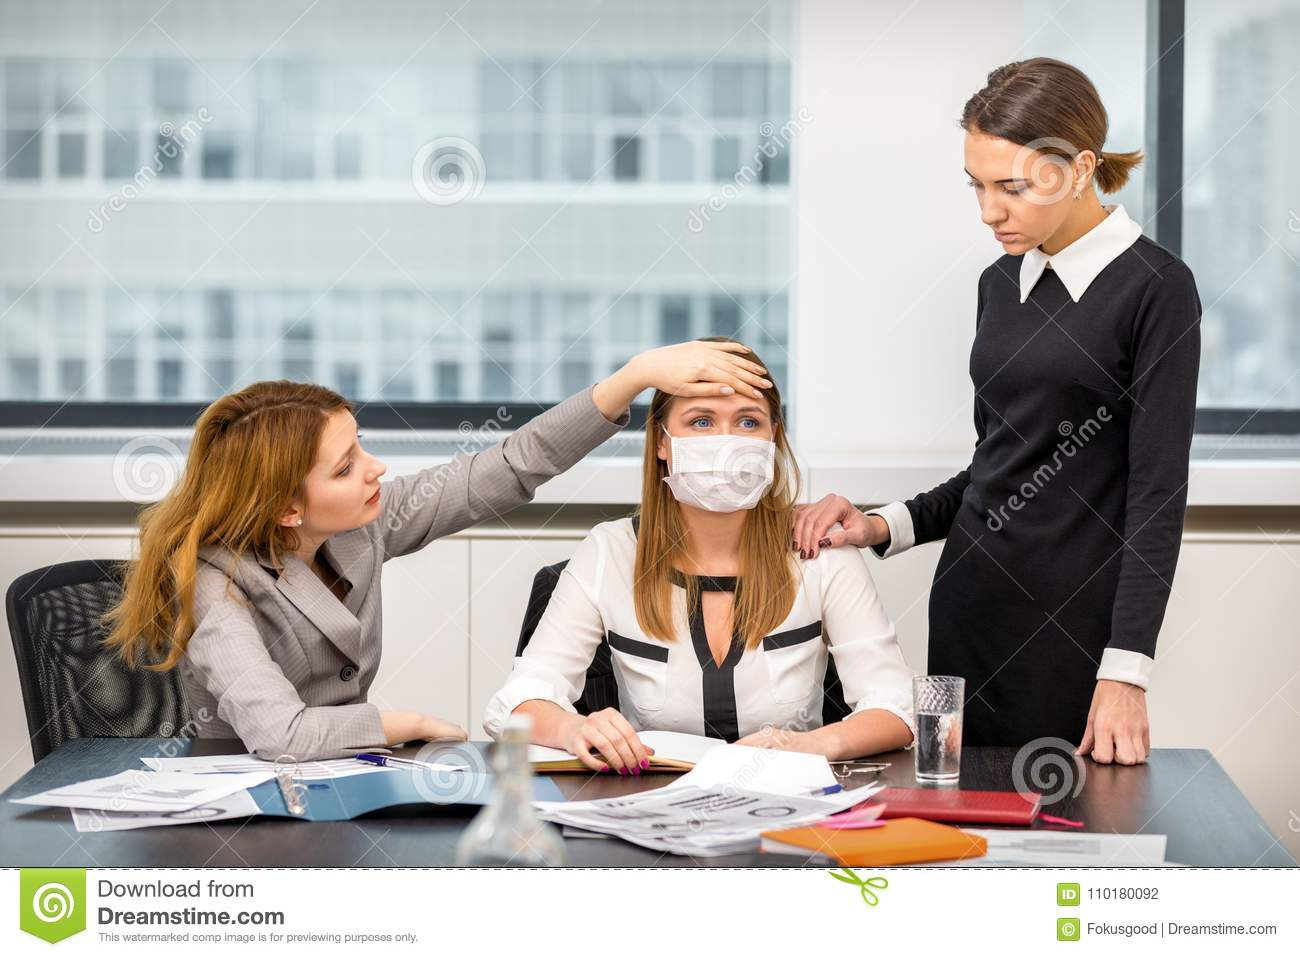mask: (670, 430, 785, 516)
